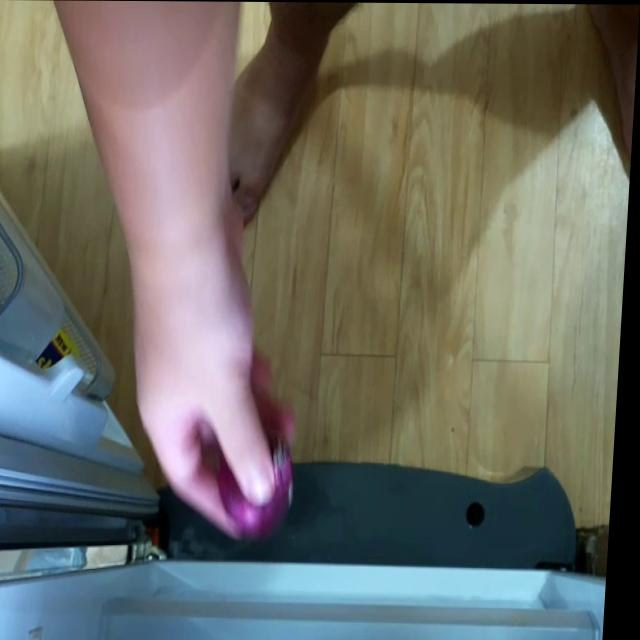onion: (221, 424, 304, 536)
